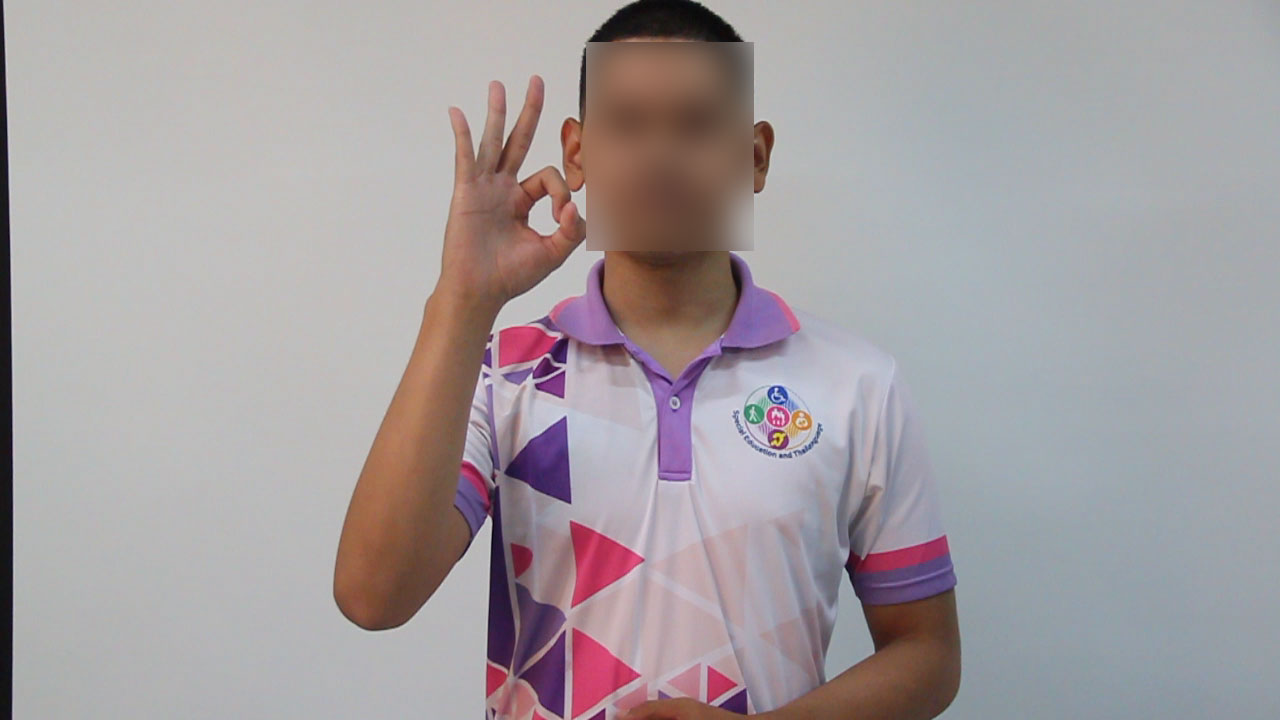for: (411, 65, 593, 319)
